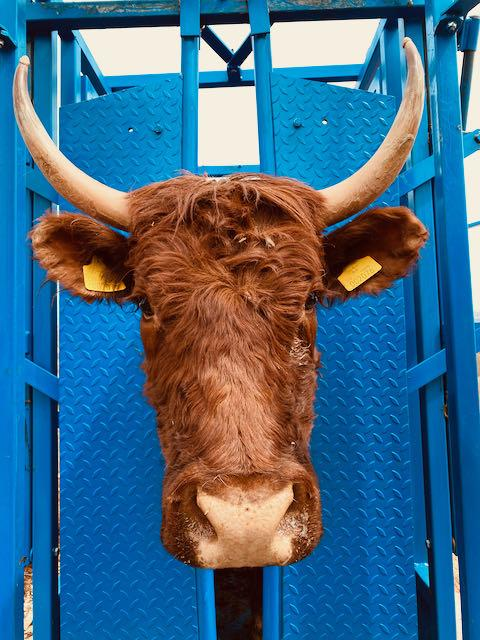muzzles: (154, 471, 326, 575)
